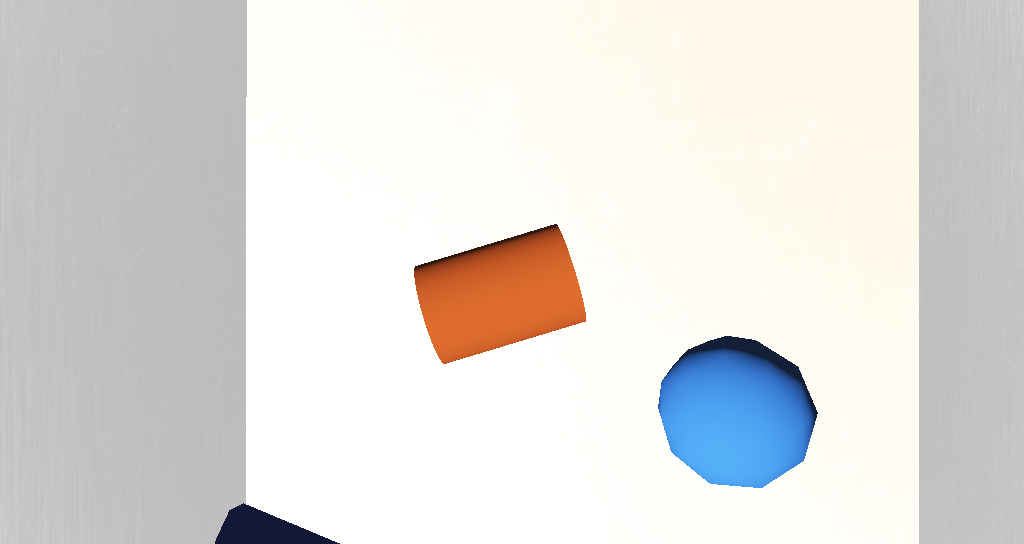cone: (435, 255, 509, 298)
cylinder: (347, 329, 435, 387)
sphere: (532, 289, 600, 332)
